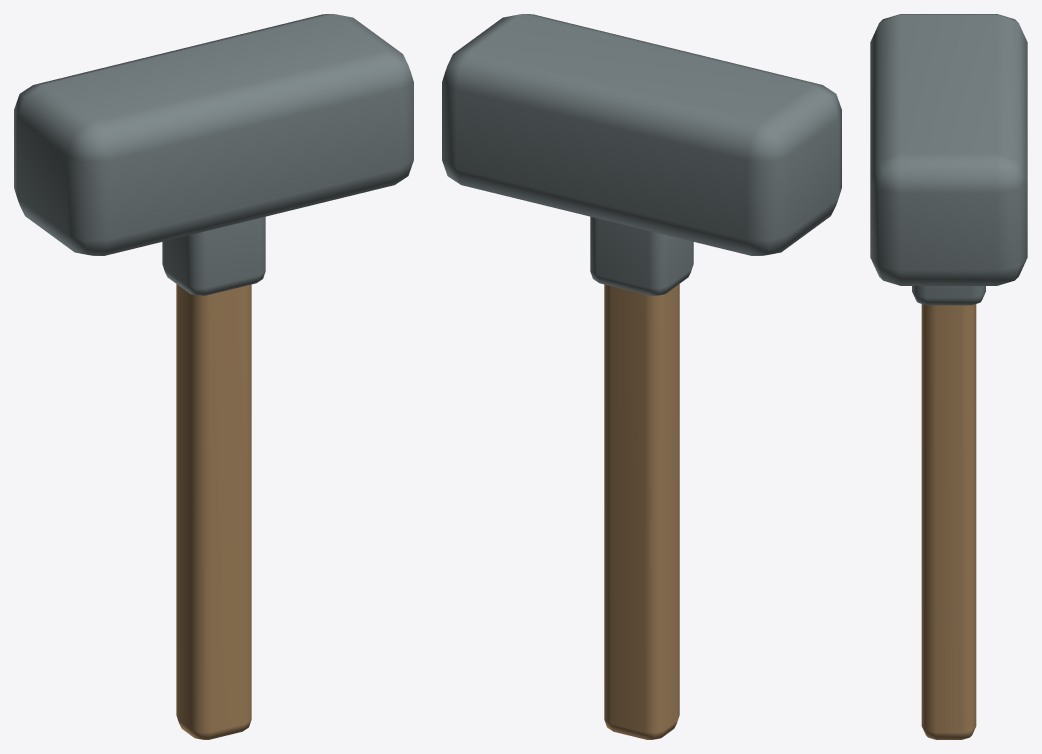
Rendered from BuildingHammer.glb.
3 renders of one model, left to right at view 1: azimuth 30°, elevation 25°; view 2: azimuth 150°, elevation 25°; view 3: azimuth 270°, elevation 25°, orthographic. The views are drawn at different scales.
Visible parts, largest first — view 1: BuildingHammer; view 2: BuildingHammer; view 3: BuildingHammer.
Part boxes in pixels (x1,y1,x2,y2): BuildingHammer: (14,14,413,739); BuildingHammer: (442,14,841,739); BuildingHammer: (870,14,1027,739).
Size of the model in its own units: 0.32 by 0.59 by 0.13.
